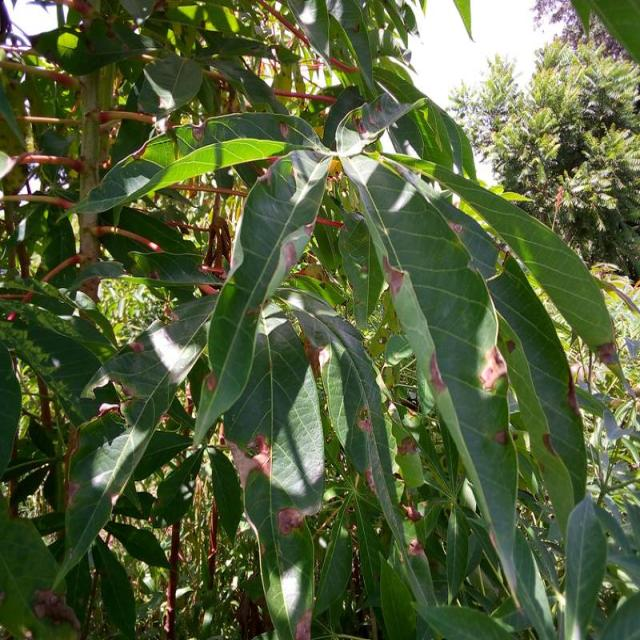cassava leaf: (4, 1, 626, 638)
